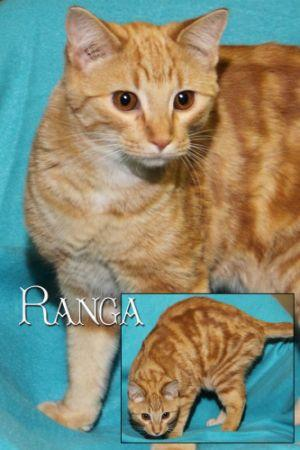bengal: (48, 1, 242, 187)
